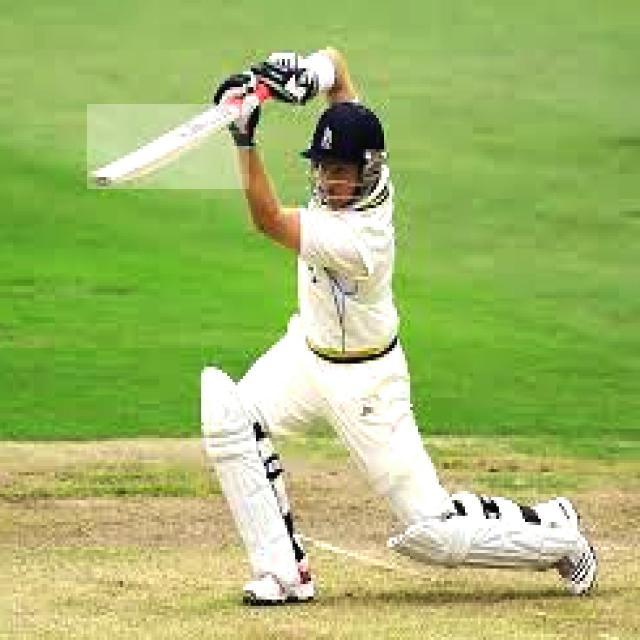bat: (87, 100, 253, 190)
toe: (89, 174, 116, 189)
